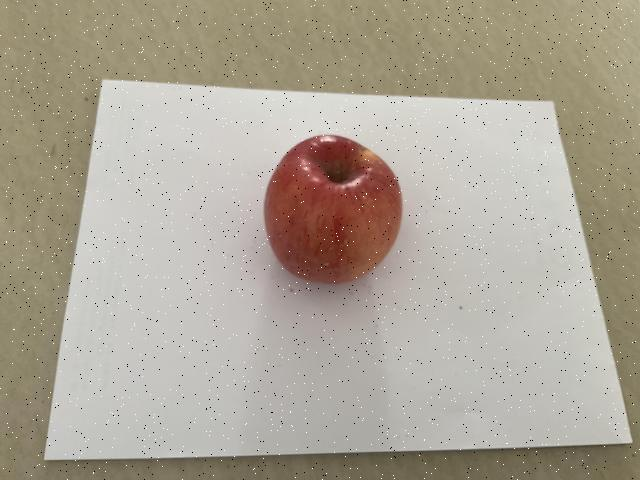apple: (259, 129, 409, 288)
